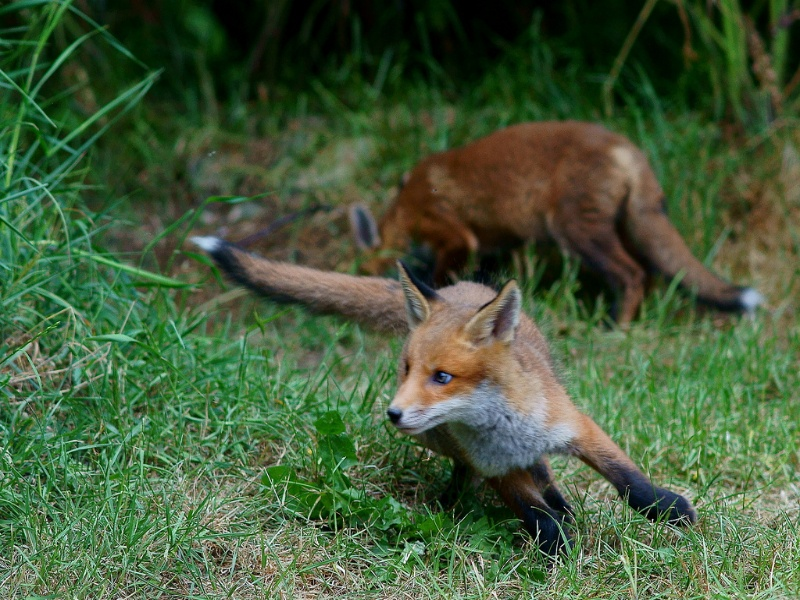fox: (179, 237, 701, 558), (332, 122, 765, 344)
